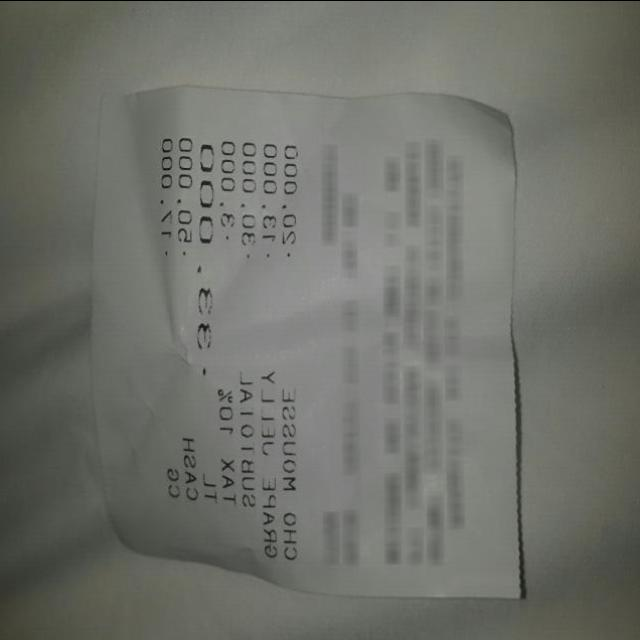kertas: (93, 86, 524, 596)
